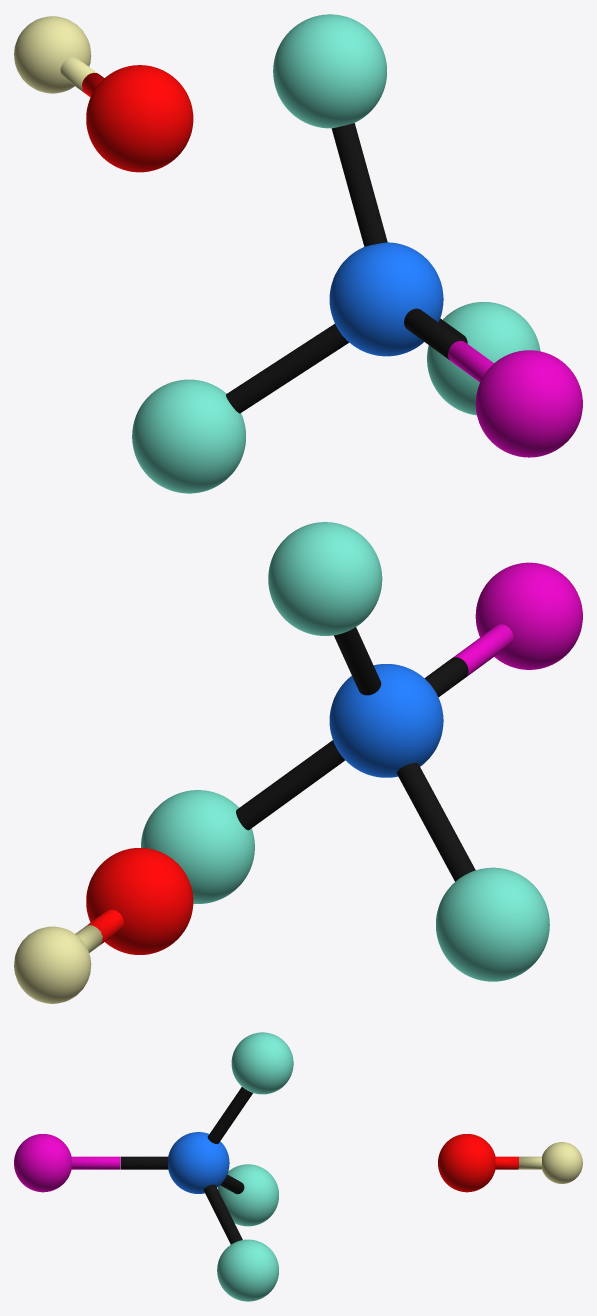
3 views of the same model, one above another, from view 1: azimuth 30°, elevation 25°; view 2: azimuth 150°, elevation 25°; view 3: azimuth 270°, elevation 25° (orthographic). The views are drawn at different scales.
Visible parts, largest first — view 1: Sphere.016, Sphere.001, Sphere.004, Sphere, Sphere.013, Sphere.002, Cylinder.003, Cylinder.002, Cylinder.006, Cylinder.005; view 2: Sphere.016, Sphere.001, Sphere.004, Sphere, Sphere.002, Sphere.013, Cylinder.003, Cylinder.004, Cylinder.002, Cylinder.005, Cylinder.006; view 3: Sphere.016, Sphere.001, Sphere.002, Sphere, Sphere.013, Sphere.004, Cylinder.004, Cylinder.002, Cylinder.005, Cylinder.006.
Part boxes in pixels (bbox=[...]): Sphere.016: bbox=[14, 16, 193, 172]; Sphere.001: bbox=[273, 14, 386, 128]; Sphere.004: bbox=[132, 379, 245, 493]; Sphere: bbox=[329, 242, 443, 356]; Sphere.013: bbox=[475, 350, 582, 457]; Sphere.002: bbox=[427, 302, 540, 415]; Cylinder.003: bbox=[226, 324, 348, 413]; Cylinder.002: bbox=[331, 123, 387, 246]; Cylinder.006: bbox=[404, 308, 463, 359]; Cylinder.005: bbox=[448, 341, 493, 382]; Sphere.016: bbox=[14, 848, 193, 1003]; Sphere.001: bbox=[268, 522, 382, 635]; Sphere.004: bbox=[436, 867, 549, 981]; Sphere: bbox=[329, 664, 443, 777]; Sphere.002: bbox=[141, 790, 254, 903]; Sphere.013: bbox=[475, 562, 582, 669]; Cylinder.003: bbox=[396, 763, 475, 881]; Cylinder.004: bbox=[236, 740, 345, 830]; Cylinder.002: bbox=[334, 627, 381, 695]; Cylinder.005: bbox=[453, 624, 513, 677]; Cylinder.006: bbox=[424, 657, 468, 697]; Sphere.016: bbox=[438, 1134, 582, 1192]; Sphere.001: bbox=[231, 1032, 293, 1094]; Sphere.002: bbox=[217, 1239, 278, 1301]; Sphere: bbox=[168, 1132, 229, 1193]; Sphere.013: bbox=[14, 1134, 71, 1192]; Sphere.004: bbox=[217, 1164, 278, 1226]; Cylinder.004: bbox=[203, 1184, 242, 1244]; Cylinder.002: bbox=[207, 1087, 252, 1143]; Cylinder.005: bbox=[71, 1156, 120, 1169]; Cylinder.006: bbox=[120, 1156, 168, 1169].
Size of the model in its own units: 5.07 by 5.18 by 11.66.
